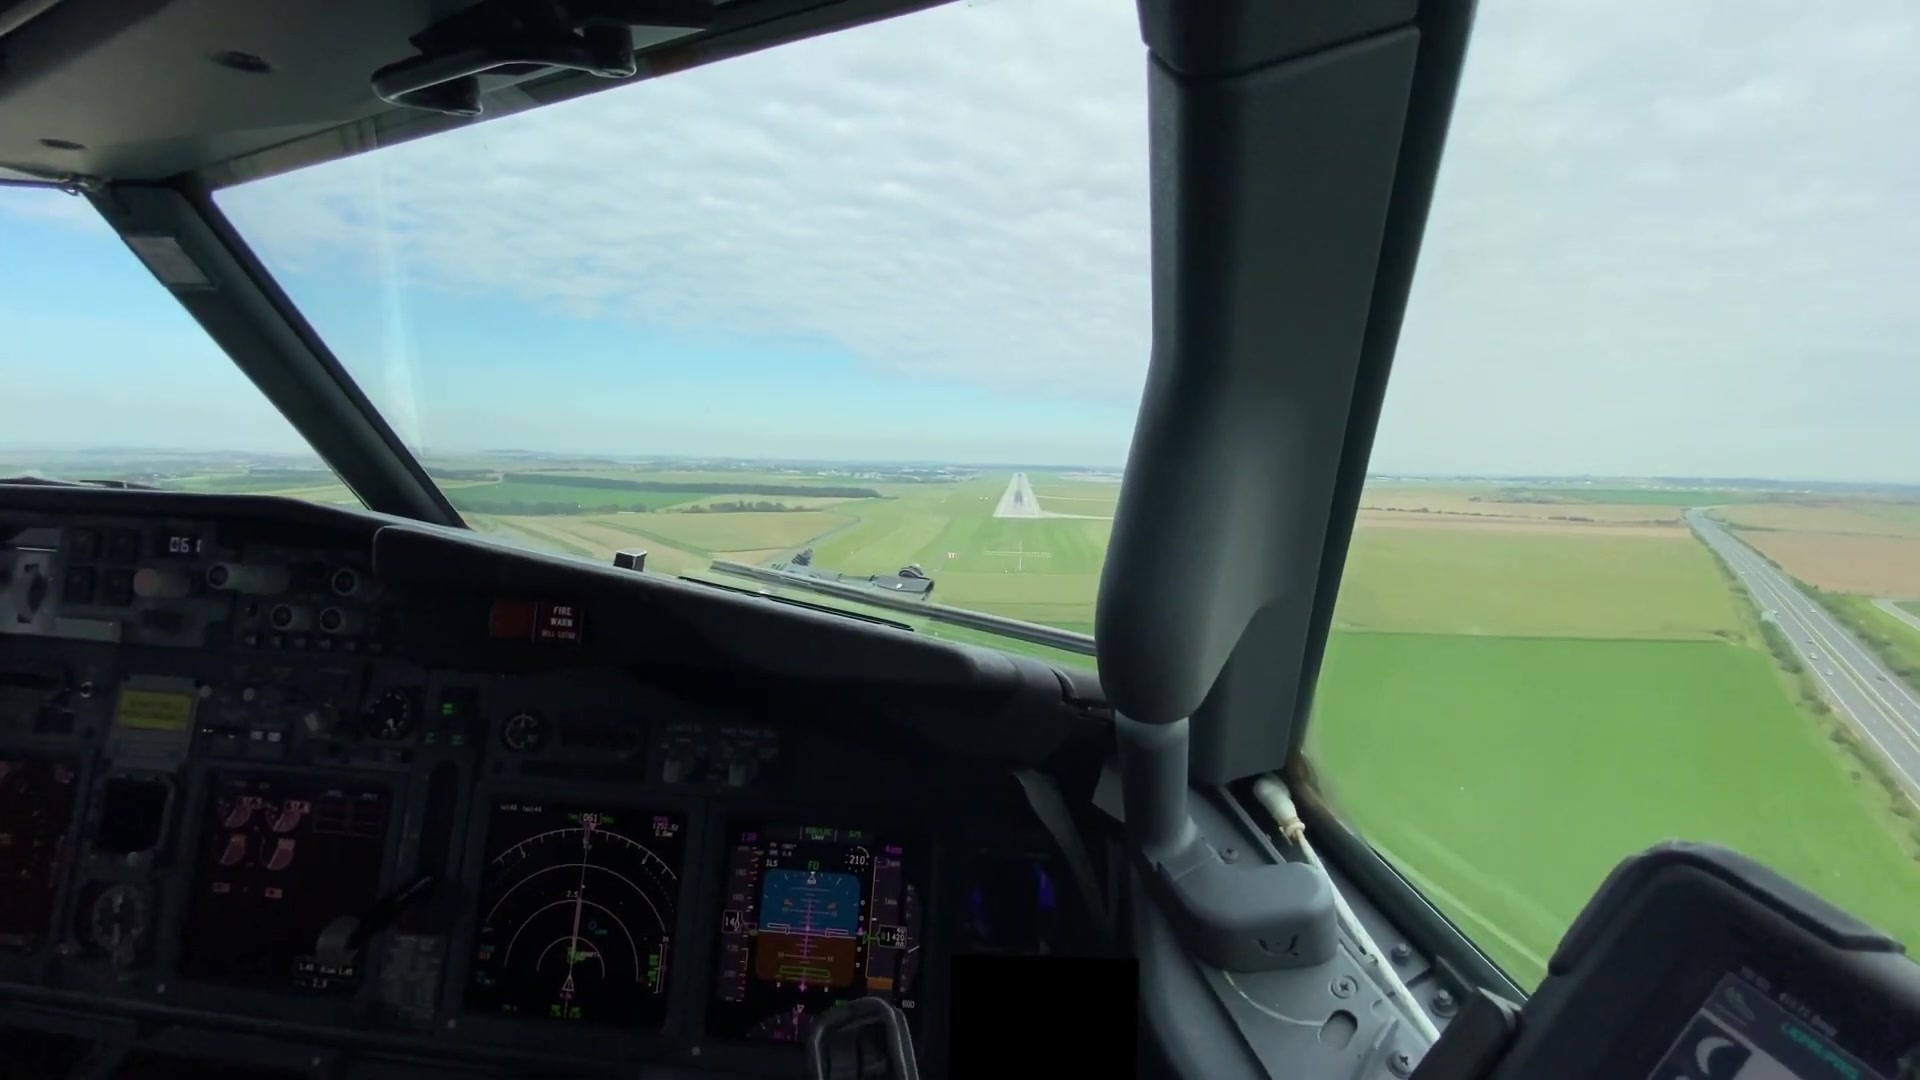runway: (992, 469, 1046, 520)
